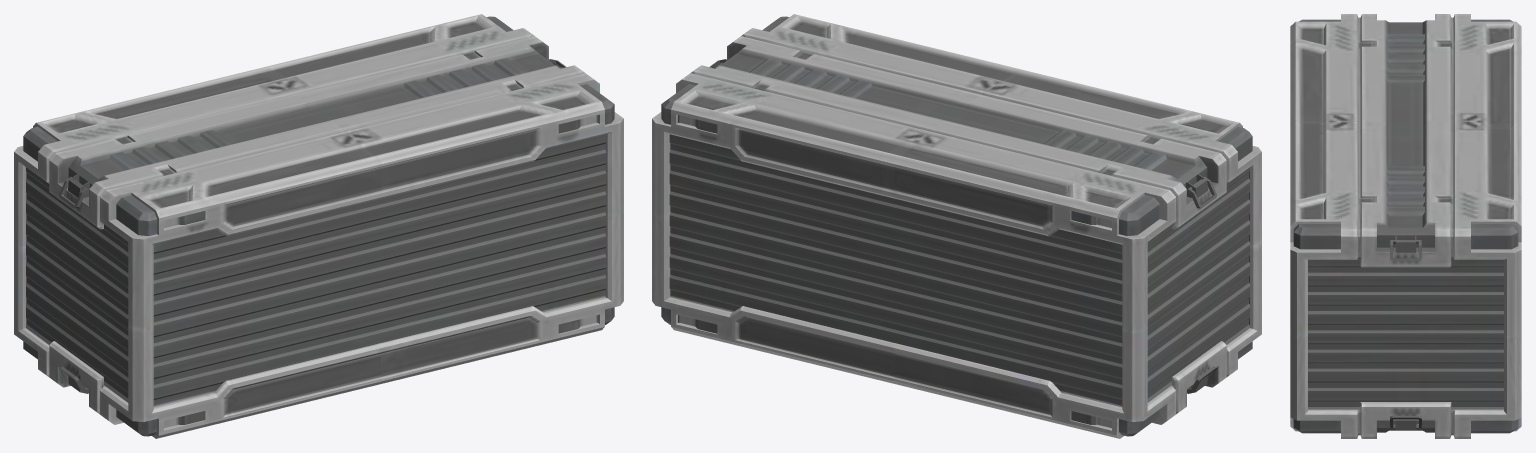
Rendered from crate-large.glb.
3 renders of one model, left to right at view 1: azimuth 30°, elevation 25°; view 2: azimuth 150°, elevation 25°; view 3: azimuth 270°, elevation 25°, orthographic. The views are drawn at different scales.
Parts seen in each view (by area): view 1: Prop_Crate_Large; view 2: Prop_Crate_Large; view 3: Prop_Crate_Large.
Part boxes in pixels (x1,y1,x2,y2): Prop_Crate_Large: [14, 14, 623, 438]; Prop_Crate_Large: [652, 14, 1261, 438]; Prop_Crate_Large: [1290, 14, 1521, 438].
Size of the model in its own units: 3.47 by 1.5 by 1.5.
Materials: 1 (1 with a texture image).
